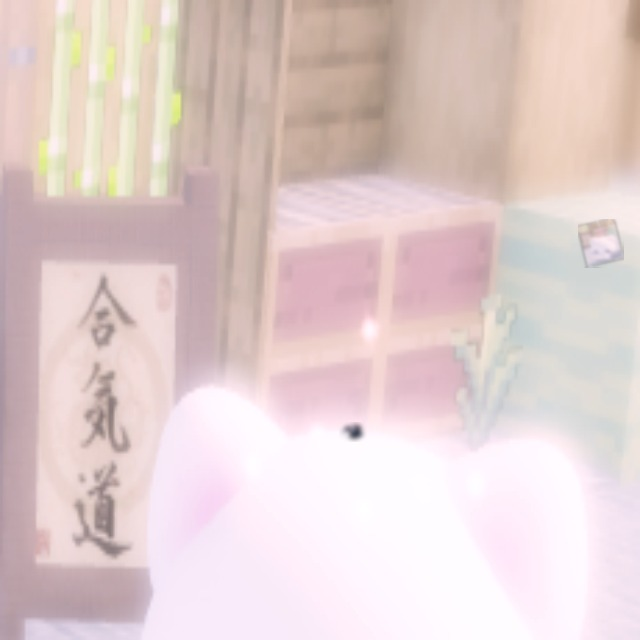urso_branco: (578, 219, 624, 268)
urso_preto: (339, 422, 367, 442)
